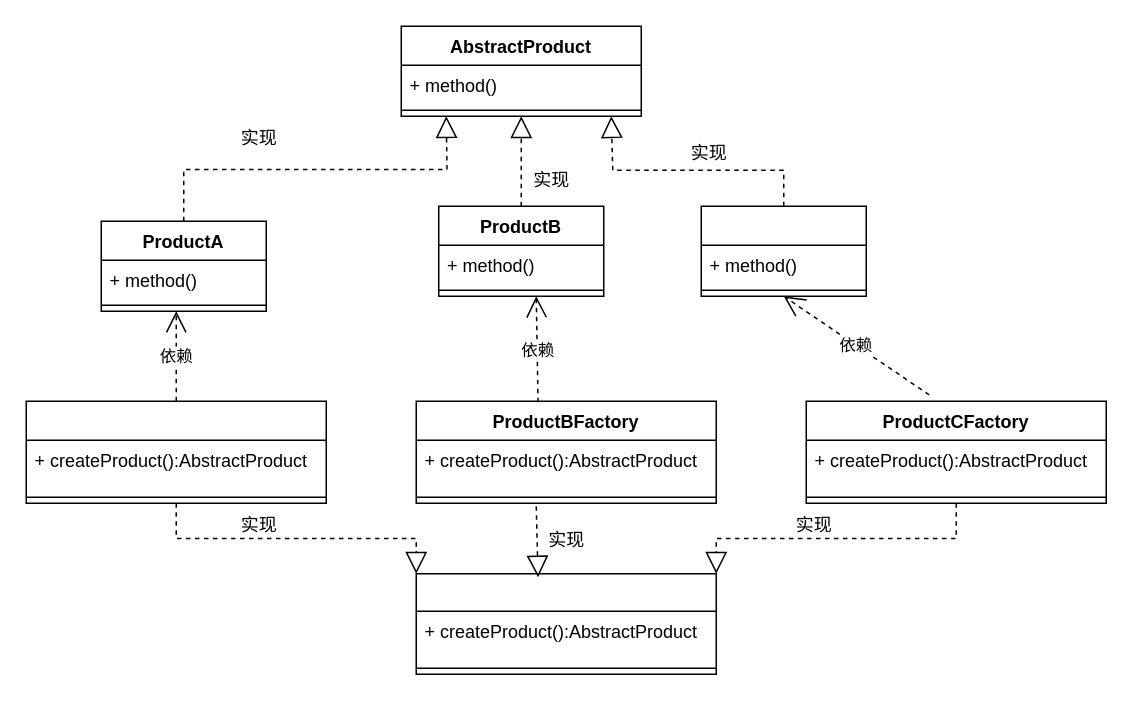
This 1133x701 diagram has some shape labels left out. The shapes that lost their labels are listed below. From the top down, each one's box as (x1, y1, x2, y2) in pixels, then its label:
(700, 205, 866, 296): ProductC
(25, 400, 326, 503): ProductAFactory
(415, 572, 716, 674): AbstactProductFactory
